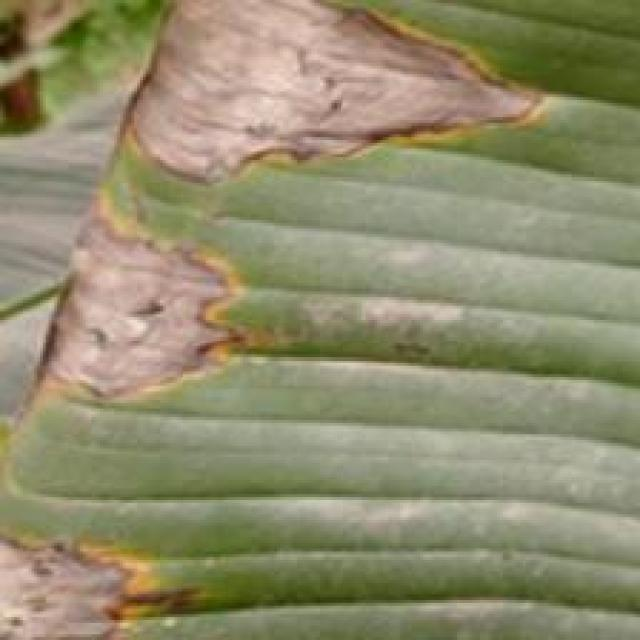Bacterial_spot: (87, 0, 557, 193), (32, 204, 257, 426), (0, 517, 211, 640), (342, 284, 473, 348)
